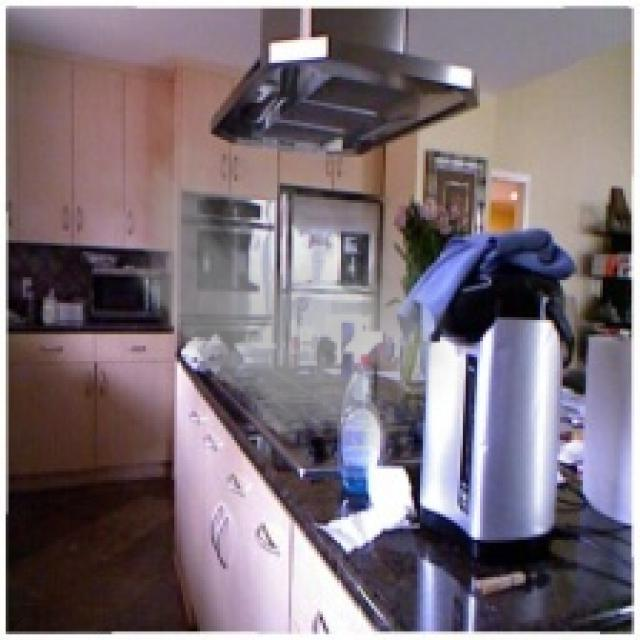Smoke: (91, 82, 472, 468)
